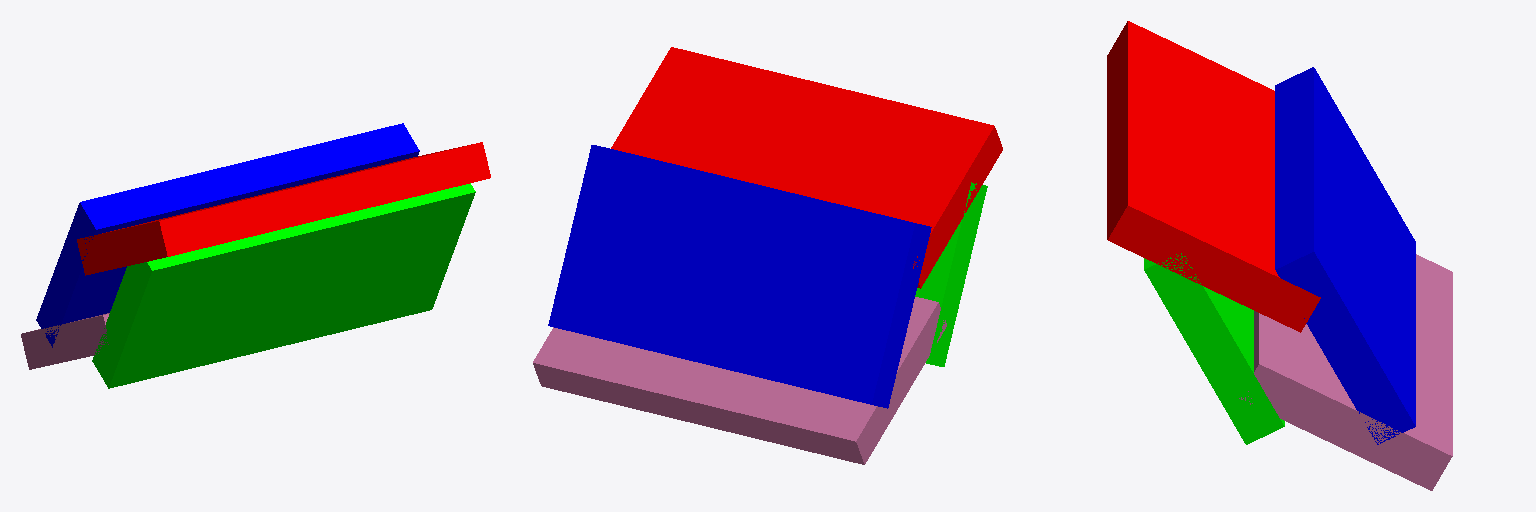
The robot description file, URDF, robot "panda_arm_hand":
<?xml version='1.0' encoding='utf-8'?>
<robot name="panda_arm_hand">

     <!-- GROUND LINK -->
  <link name ="ground_link">
    <inertial>
      <origin xyz="0.0 0.0 0.0" rpy="0 0 0" />
      <mass value="0.001" />
      <inertia ixx="1E-06" ixy="0.0" ixz="0.0" iyy="1E-06" iyz="0.0" izz="1E-06" />
    </inertial>
  </link>


  <!-- MOBILE BASE LINKS -->
  <link name ="base_x">
    <inertial>
      <origin xyz="0.0 0.0 0.0" rpy="0 0 0" />
      <mass value="0.001" />
      <inertia ixx="1E-06" ixy="0.0" ixz="0.0" iyy="1E-06" iyz="0.0" izz="1E-06" />
    </inertial>
  </link>

  <link name = "base_y">
    <inertial>
      <origin xyz="0.0 0.0 0.0" rpy="0 0 0" />
      <mass value = "0.001" />
      <inertia ixx="1E-06" ixy="0.0" ixz="0.0" iyy="1E-06" iyz="0.0" izz="1E-06" />
    </inertial>
  </link>

  <!-- MOBILE BASE + LINK 0 OF PANDA ARM -->
  <link name = "base_link">
    <inertial>
      <origin xyz="0.0 0.0 0.1757" rpy="0 0 0" />
      <mass value = "64.6" />
      <inertia ixx="1.721" ixy="0.0" ixz="0.0" iyy="1.712" iyz="0.0" izz="2.030" />
    </inertial>
    <visual>
      <geometry>
        <mesh filename="../../../model/mmp_panda/meshes/panda_BaseCombo.obj" />
      </geometry>
    </visual>
  </link>

    <!-- <link name="link0">
      <inertial>
        <origin xyz="0 0 0.05" rpy="0 0 0" />
        <mass value="4" />
        <inertia ixx="0.4" iyy="0.4" izz="0.4" ixy="0" ixz="0" iyz="0" />
      </inertial>
      <visual>
        <geometry>
          <mesh filename="../../../model/panda/meshes/visual/link0.obj"/>
        </geometry>
      </visual>
       <collision>
        <geometry>
          <mesh filename="../../../model/panda/meshes/collision/link0.obj"/>
        </geometry>
      </collision> 
    </link> -->

    <link name="link1">
      <inertial>
        <origin xyz="0 0 -0.07" rpy="0 -0 0" />
        <mass value="3" />
        <inertia ixx="0.3" iyy="0.3" izz="0.3" ixy="0" ixz="0" iyz="0" />
      </inertial>
      <visual>
        <geometry>
          <mesh filename="../../../model/panda/meshes/visual/link1.obj"/>
        </geometry>
      </visual>
      <!-- <collision>
        <geometry>
          <mesh filename="../../../model/panda/meshes/collision/link1.obj"/>
        </geometry>
      </collision> -->
    </link>
    <link name="link2">
      <inertial>
        <origin xyz="0 -0.1 0" rpy="0 -0 0" />
        <mass value="3" />
        <inertia ixx="0.3" iyy="0.3" izz="0.3" ixy="0" ixz="0" iyz="0" />
      </inertial>
      <visual>
        <geometry>
          <mesh filename="../../../model/panda/meshes/visual/link2.obj"/>
        </geometry>
      </visual>
      <!-- <collision>
        <geometry>
          <mesh filename="../../../model/panda/meshes/collision/link2.obj"/>
        </geometry>
      </collision> -->
    </link>
    <link name="link3">
      <inertial>
        <origin xyz="0.04 0 -0.05" rpy="0 -0 0" />
        <mass value="2" />
        <inertia ixx="0.2" iyy="0.2" izz="0.2" ixy="0" ixz="0" iyz="0" />
      </inertial>
      <visual>
        <geometry>
          <mesh filename="../../../model/panda/meshes/visual/link3.obj"/>
        </geometry>
      </visual>
      <!-- <collision>
        <geometry>
          <mesh filename="../../../model/panda/meshes/collision/link3.obj"/>
        </geometry>
      </collision> -->
    </link>
    <link name="link4">
      <inertial>
        <origin xyz="-0.04 0.05 0" rpy="0 -0 0" />
        <mass value="2" />
        <inertia ixx="0.2" iyy="0.2" izz="0.2" ixy="0" ixz="0" iyz="0" />
      </inertial>
      <visual>
        <geometry>
          <mesh filename="../../../model/panda/meshes/visual/link4.obj"/>
        </geometry>
      </visual>
<!--       <collision>
        <geometry>
          <mesh filename="../../../model/panda/meshes/collision/link4.obj"/>
        </geometry>
      </collision> -->
    </link>
    <link name="link5">
      <inertial>
        <origin xyz="0 0 -0.15" rpy="0 -0 0" />
        <mass value="2" />
        <inertia ixx="0.2" iyy="0.2" izz="0.2" ixy="0" ixz="0" iyz="0" />
      </inertial>
      <visual>
        <geometry>
          <mesh filename="../../../model/panda/meshes/visual/link5.obj"/>
        </geometry>
      </visual>
<!--       <collision>
        <geometry>
          <mesh filename="../../../model/panda/meshes/collision/link5.obj"/>
        </geometry>
      </collision> -->
    </link>
    <link name="link6">
      <inertial>
        <origin xyz="0.06 0 0" rpy="0 -0 0" />
        <mass value="1.5" />
        <inertia ixx="0.1" iyy="0.1" izz="0.1" ixy="0" ixz="0" iyz="0" />
      </inertial>
      <visual>
        <geometry>
          <mesh filename="../../../model/panda/meshes/visual/link6.obj"/>
        </geometry>
      </visual>
      <!-- <collision>
        <geometry>
          <mesh filename="../../../model/panda/meshes/collision/link6.obj"/>
        </geometry>
      </collision> -->
    </link>
    <link name="link7">
      <inertial>
        <origin xyz="0 0 0.17" rpy="0 -0 0" />
        <mass value="1.8" />
        <inertia ixx="0.09" iyy="0.05" izz="0.07" ixy="0" ixz="0" iyz="0" />
      </inertial>
      <visual>
        <geometry>
          <mesh filename="../../../model/panda/meshes/visual/link7.obj"/>
        </geometry>
      </visual>
      <!-- <collision>
        <geometry>
          <mesh filename="../../../model/panda/meshes/collision/link7.obj"/>
        </geometry>
      </collision> -->
      <visual>
        <origin xyz="0 0 0.107" rpy="0 0 -0.78539816339" />
        <geometry>
          <mesh filename="../../../model/panda/meshes/visual/hand.obj"/>
        </geometry>
      </visual>
<!--       <collision>
        <origin xyz="0 0 0.107" rpy="0 0 -0.78539816339" />
        <geometry>
          <mesh filename="../../../model/panda/meshes/collision/hand.obj"/>
        </geometry>
      </collision> -->
    </link>


    <link name="leftfinger">
      <inertial>
        <origin xyz="0 0 0.05" rpy="0 -0 0" />
        <mass value=".75" />
        <inertia ixx="0.01" iyy="0.01" izz="0.005" ixy="0" ixz="0" iyz="0" />
      </inertial>
      <visual>
        <geometry>
          <mesh filename="../../../model/panda/meshes/visual/finger.obj" scale="2 2 2"/>
        </geometry>
      </visual>

       <collision>
        <origin xyz="0 0 .1" rpy="0 0 0" />
        <geometry>
          <box size="0.1 .02 0.2" />
        </geometry>
      </collision> 

      <visual>
        <origin xyz="0 0 .1" rpy="0 0 0" />
        <geometry>
          <box size="0.1 .02 0.2" />
        </geometry>
        <material name="material_red">
            <color rgba="1.0 0.0 0.0 1.0" />
        </material>
      </visual>   
    </link>


    <link name="rightfinger">
      <inertial>
        <origin xyz="0 0 0.05" rpy="0 -0 0" />
        <mass value="0.75" />
        <inertia ixx="0.01" iyy="0.01" izz="0.005" ixy="0" ixz="0" iyz="0" />
      </inertial>
      <visual>
        <origin xyz="0 0 0" rpy="0 0 3.14159265359" />
        <geometry>
          <mesh filename="../../../model/panda/meshes/visual/finger.obj" scale="2 2 2"/>
        </geometry>
      </visual>

      <collision>
        <origin xyz="0 0 .1" rpy="0 0 0" />
        <geometry>
          <box size="0.1 .02 0.2" />
        </geometry>
      </collision> 

      <visual>
        <origin xyz="0 0 .1" rpy="0 0 0" />
        <geometry>
          <box size="0.1 .02 0.2" />
        </geometry>
        <material name="material_green">
            <color rgba="0.0 1.0 0.0 1.0" />
        </material>
      </visual>  
    </link>

    <link name="leftfinger_bottom">
      <inertial>
        <origin xyz="0 0 0.05" rpy="0 -0 0" />
        <mass value=".75" />
        <inertia ixx="0.01" iyy="0.01" izz="0.005" ixy="0" ixz="0" iyz="0" />
      </inertial>
      <visual>
        <geometry>
          <mesh filename="../../../model/panda/meshes/visual/finger.obj" scale="2 2 2"/>
        </geometry>
      </visual>

       <collision>
        <origin xyz="0 0 .1" rpy="0 0 0" />
        <geometry>
          <box size="0.1 .02 0.2" />
        </geometry>
      </collision> 

      <visual>
        <origin xyz="0 0 .1" rpy="0 0 0" />
        <geometry>
          <box size="0.1 .02 0.2" />
        </geometry>
        <material name="material_blue">
            <color rgba="0.0 0.0 1.0 1.0" />
        </material>
      </visual>   
    </link>


    <link name="rightfinger_bottom">
      <inertial>
        <origin xyz="0 0 0.05" rpy="0 -0 0" />
        <mass value="0.75" />
        <inertia ixx="0.01" iyy="0.01" izz="0.005" ixy="0" ixz="0" iyz="0" />
      </inertial>
      <visual>
        <origin xyz="0 0 0" rpy="0 0 3.14159265359" />
        <geometry>
          <mesh filename="../../../model/panda/meshes/visual/finger.obj" scale="2 2 2"/>
        </geometry>
      </visual>

      <collision>
        <origin xyz="0 0 .1" rpy="0 0 0" />
        <geometry>
          <box size="0.1 .02 0.2" />
        </geometry>
      </collision> 

      <visual>
        <origin xyz="0 0 .1" rpy="0 0 0" />
        <geometry>
          <box size="0.1 .02 0.2" />
        </geometry>
      </visual>  
       <material name="material_yellow">
            <color rgba="1.0 1.0 0.0 1.0" />
        </material>
    </link>

    <!-- JOINTS -->
  <joint name = "base_prismatic_x" type = "prismatic">
    <origin xyz = "0 0 0" rpy = "0 0 0"/> 
    <parent link = "ground_link" />
    <child link= "base_x"/>
    <axis xyz = "1 0 0" />
    <limit effort="87" lower="-2.8973" upper="2.9873" velocity="2.1750" />
  </joint>

  <joint name = "base_prismatic_y" type = "prismatic">
    <origin xyz = "0 0 0" rpy = "0 0 0"/> 
    <parent link = "base_x" />
    <child link= "base_y"/>
    <axis xyz = "0 1 0" />
    <limit effort="87" lower="-2.8973" upper="2.9873" velocity="2.1750" />
  </joint>

  <joint name = "base_revolute" type = "revolute">
    <origin xyz = "0 0 0.0" rpy = "0 0 0"/> 
    <parent link = "base_y" />
    <child link= "base_link"/>
    <axis xyz = "0 0 1" />
    <limit effort="87" lower="-2.8973" upper="2.8973" velocity="2.1750" />
  </joint>


    <joint name="joint1" type="revolute">
      <safety_controller k_position="100.0" k_velocity="40.0" soft_lower_limit="-2.8973" soft_upper_limit="2.8973"/>
      <origin rpy="0 0 0" xyz="0 0 0.333"/>
      <parent link="base_link"/>
      <child link="link1"/>
      <axis xyz="0 0 1"/>
      <limit effort="87" lower="-2.8973" upper="2.8973" velocity="2.1750"/>
    </joint>
    <joint name="joint2" type="revolute">
      <safety_controller k_position="100.0" k_velocity="40.0" soft_lower_limit="-1.7628" soft_upper_limit="1.7628"/>
      <origin rpy="-1.57079632679 0 0" xyz="0 0 0"/>
      <parent link="link1"/>
      <child link="link2"/>
      <axis xyz="0 0 1"/>
      <calibration falling="15.0" />
      <limit effort="87" lower="-1.7628" upper="1.7628" velocity="2.1750"/>
    </joint>
    <joint name="joint3" type="revolute">
      <safety_controller k_position="100.0" k_velocity="40.0" soft_lower_limit="-2.8973" soft_upper_limit="2.8973"/>
      <origin rpy="1.57079632679 0 0" xyz="0 -0.316 0"/>
      <parent link="link2"/>
      <child link="link3"/>
      <axis xyz="0 0 1"/>
      <limit effort="87" lower="-2.8973" upper="2.8973" velocity="2.1750"/>
    </joint>
    <joint name="joint4" type="revolute">
      <safety_controller k_position="100.0" k_velocity="40.0" soft_lower_limit="-3.0718" soft_upper_limit="-0.0698"/>
      <origin rpy="1.57079632679 0 0" xyz="0.0825 0 0"/>
      <parent link="link3"/>
      <child link="link4"/>
      <axis xyz="0 0 1"/>
      <calibration falling="-95.0" />
      <limit effort="87" lower="-3.0718" upper="-0.0698" velocity="2.1750"/>
    </joint>
    <joint name="joint5" type="revolute">
      <safety_controller k_position="100.0" k_velocity="40.0" soft_lower_limit="-2.8973" soft_upper_limit="2.8973"/>
      <origin rpy="-1.57079632679 0 0" xyz="-0.0825 0.384 0"/>
      <parent link="link4"/>
      <child link="link5"/>
      <axis xyz="0 0 1"/>
      <limit effort="12" lower="-2.8973" upper="2.8973" velocity="2.6100"/>
    </joint>
    <joint name="joint6" type="revolute">
      <safety_controller k_position="100.0" k_velocity="40.0" soft_lower_limit="-0.0175" soft_upper_limit="3.7525"/>
      <origin rpy="1.57079632679 0 0" xyz="0 0 0"/>
      <parent link="link5"/>
      <child link="link6"/>
      <axis xyz="0 0 1"/>
      <calibration falling="125.0" />
      <limit effort="12" lower="-0.0175" upper="3.7525" velocity="2.6100"/>
    </joint>
    <joint name="joint7" type="revolute">
      <safety_controller k_position="100.0" k_velocity="40.0" soft_lower_limit="-2.8973" soft_upper_limit="2.8973"/>
      <origin rpy="1.57079632679 0 0" xyz="0.088 0 0"/>
      <parent link="link6"/>
      <child link="link7"/>
      <axis xyz="0 0 1"/>
      <limit effort="12" lower="-2.8973" upper="2.8973" velocity="2.6100"/>
    </joint>
    <joint name="finger_joint1" type="prismatic">
      <parent link="link7"/>
      <child link="leftfinger"/>
      <origin xyz="-.02 .03 0.1654" rpy="0 0 -1.08539816339"/>
      <axis xyz="0 1 0"/>
      <!-- <calibration rising="0.1" /> --> 
      <limit effort="20" lower="0.0" upper="0.04" velocity="0.2"/>
    </joint>
    <joint name="finger_joint2" type="prismatic">
      <parent link="link7"/>
      <child link="rightfinger"/>
      <origin xyz=".02 .03 0.1654" rpy="0 0 -0.48539816339"/>
      <axis xyz="0 1 0"/>
      <!-- <calibration rising="-0.1" /> -->
      <limit effort="20" lower="0.0" upper="0.04" velocity="0.2"/>
      <!-- <mimic joint="finger_joint1" /> -->
    </joint>

    <joint name="finger_joint3" type="prismatic">
      <parent link="link7"/>
      <child link="leftfinger_bottom"/>
     <origin xyz="0.02 -.03 0.1654" rpy="0 0 -0.48539816339"/>
      <axis xyz="0 1 0"/>
      <limit effort="20" lower="0.0" upper="0.04" velocity="0.2"/>
    </joint>
    <joint name="finger_joint4" type="prismatic">
      <parent link="link7"/>
      <child link="rightfinger_bottom"/>
      <origin xyz=".06 -.03 0.1654" rpy="0 0 -1.08539816339"/>
      <axis xyz="0 1 0"/>
      <limit effort="20" lower="0.0" upper="0.04" velocity="0.2"/>
    </joint>
</robot>

--- Facts derived from the render (not from the file) ---
Views: 3 orthographic renders of the robot side by side, from view 1: azimuth 30°, elevation 25°; view 2: azimuth 150°, elevation 25°; view 3: azimuth 270°, elevation 25°.
Robot: panda_arm_hand — 15 links, 14 joints (8 revolute, 6 prismatic); root link ground_link; default pose: all joints at 0 but 1 set to mid-range because 0 is outside their limits (joint4 = -1.57).
Links seen in each view (by area): view 1: rightfinger, leftfinger_bottom, leftfinger, rightfinger_bottom; view 2: leftfinger_bottom, leftfinger, rightfinger_bottom, rightfinger; view 3: leftfinger, leftfinger_bottom, rightfinger_bottom, rightfinger.
Link boxes in pixels (x1=…): rightfinger: x1=92, y1=183, x2=475, y2=388; leftfinger_bottom: x1=36, y1=123, x2=419, y2=347; leftfinger: x1=77, y1=142, x2=490, y2=275; rightfinger_bottom: x1=21, y1=313, x2=109, y2=369; leftfinger_bottom: x1=548, y1=145, x2=931, y2=408; leftfinger: x1=611, y1=47, x2=1002, y2=288; rightfinger_bottom: x1=533, y1=297, x2=946, y2=464; rightfinger: x1=915, y1=182, x2=987, y2=366; leftfinger: x1=1107, y1=21, x2=1320, y2=332; leftfinger_bottom: x1=1275, y1=67, x2=1415, y2=444; rightfinger_bottom: x1=1239, y1=254, x2=1452, y2=490; rightfinger: x1=1144, y1=253, x2=1284, y2=444.
Size in the robot's own frame: 0.2 by 0.1578 by 0.1443 metres.
Geometry: only primitive shapes (box / cylinder / sphere) drawn; not drawn: 13 mesh visuals (reference in a form the renderer does not follow).